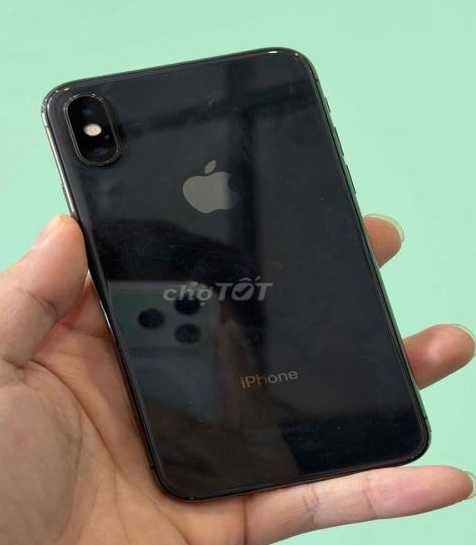scratch: (159, 387, 223, 441), (308, 405, 367, 442), (39, 77, 75, 99), (290, 53, 312, 70)
